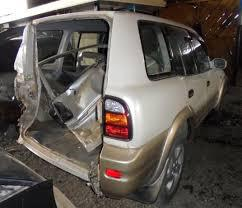Taillight-Damage: (9, 85, 37, 126)
